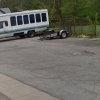Bus: (0, 7, 51, 40)
